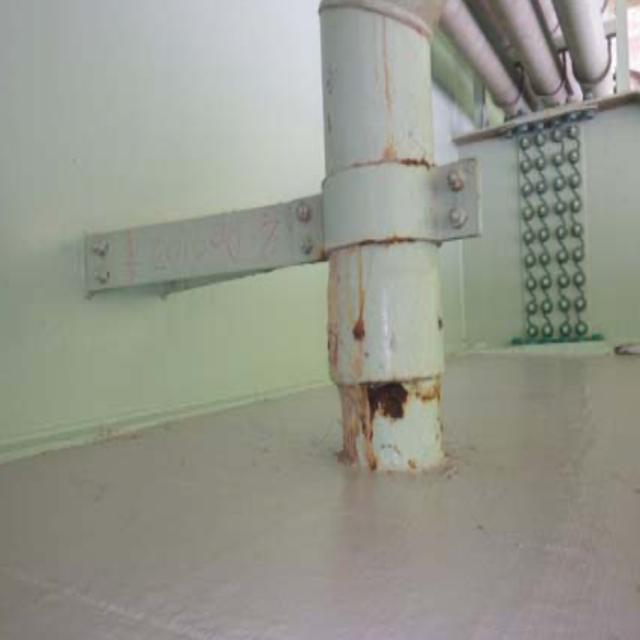corrosion: (317, 134, 472, 500)
